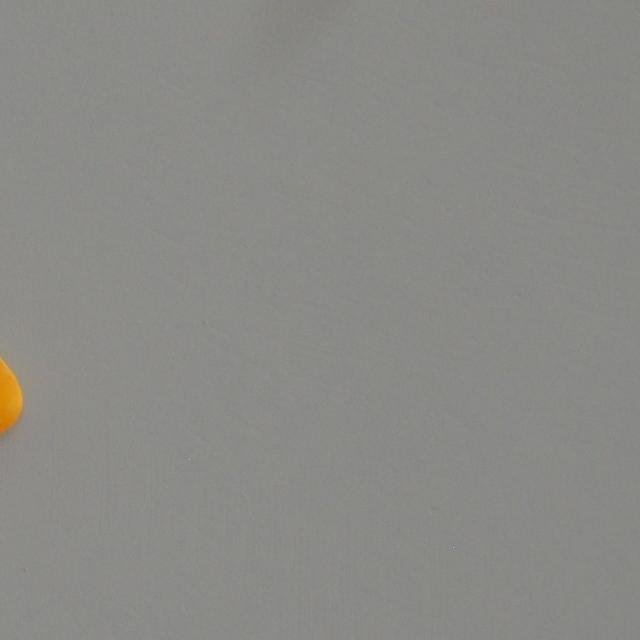dañado: (0, 337, 26, 454)
